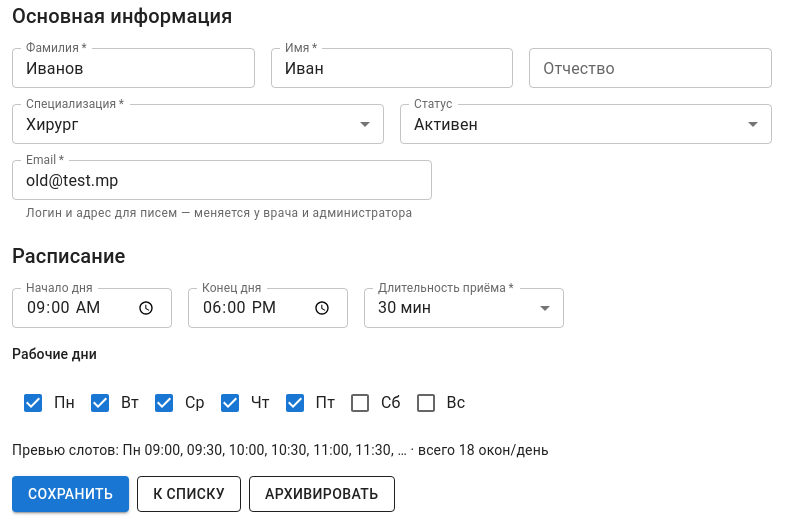
DoctorForm edit: email учётной записи (3.2) › некорректный email → ошибка на поле, запросов нет
Replace the text in the field labelled "Email *" with "не-почта" at (222, 180), box [12,160,432,200]
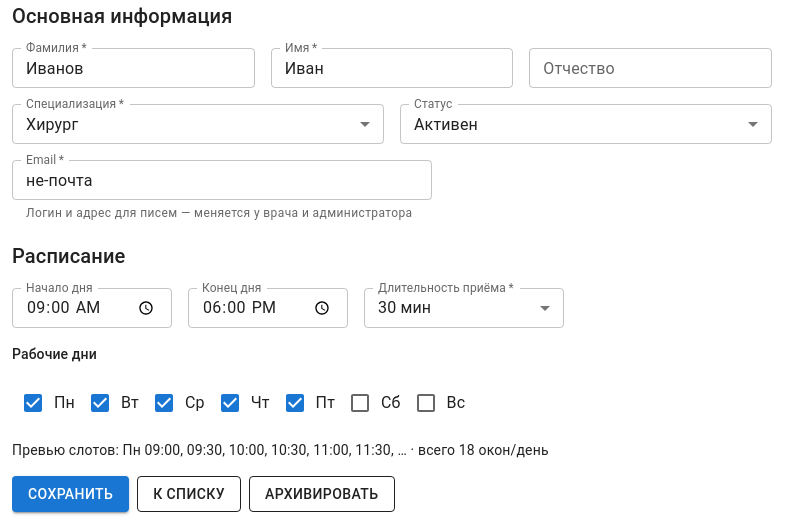
Click the button "Сохранить".
click(71, 494)  # box [12,476,129,512]
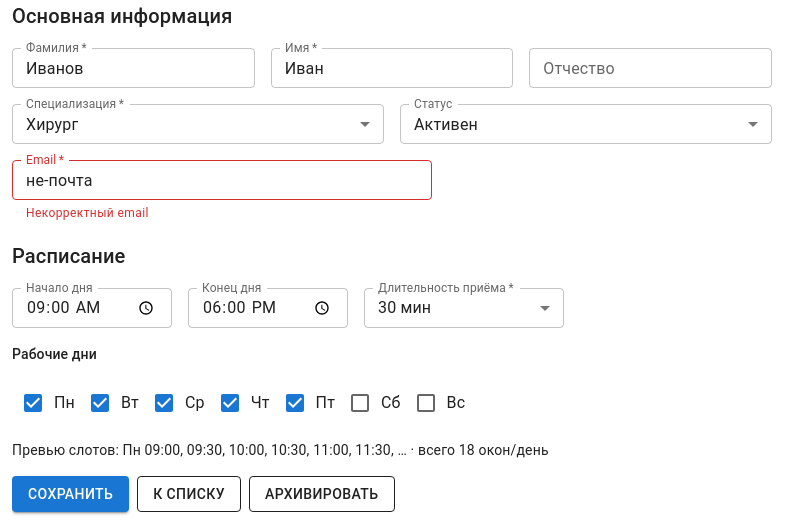
Result: the text "Некорректный email" is shown at [26,206,149,220]
